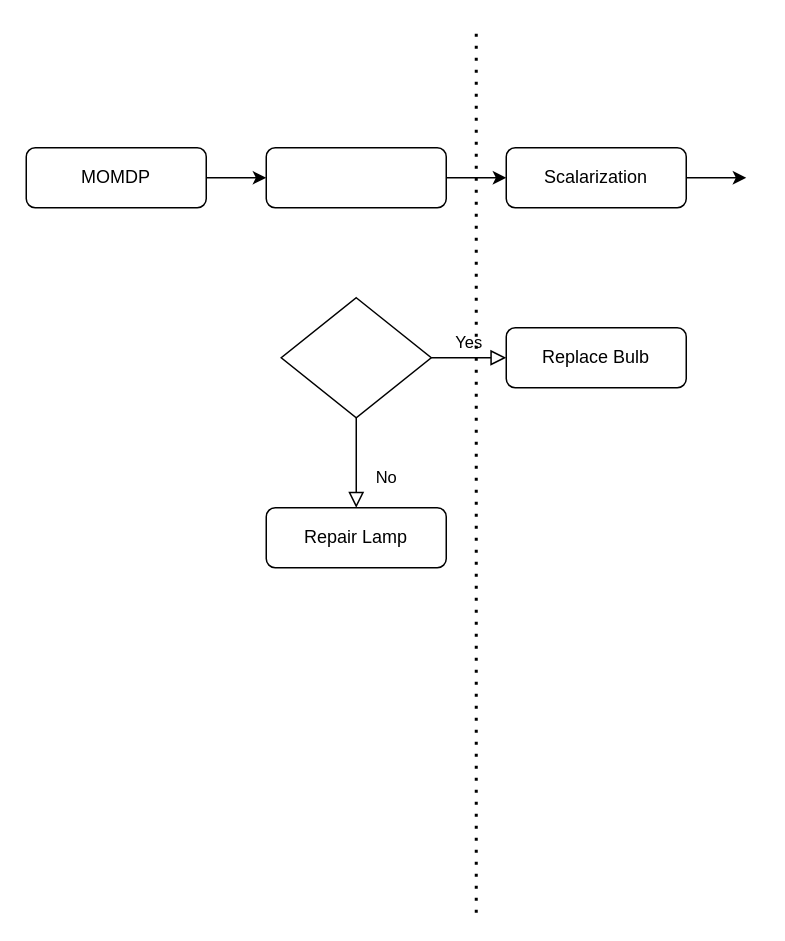
This 785x941 diagram has some shape labels left out. Here are the shapes that lost their labels. From the top down, the centre of each, then its label:
At pixel 355 177: "Algorithm".
At pixel 355 357: "Bulb burned out?".
